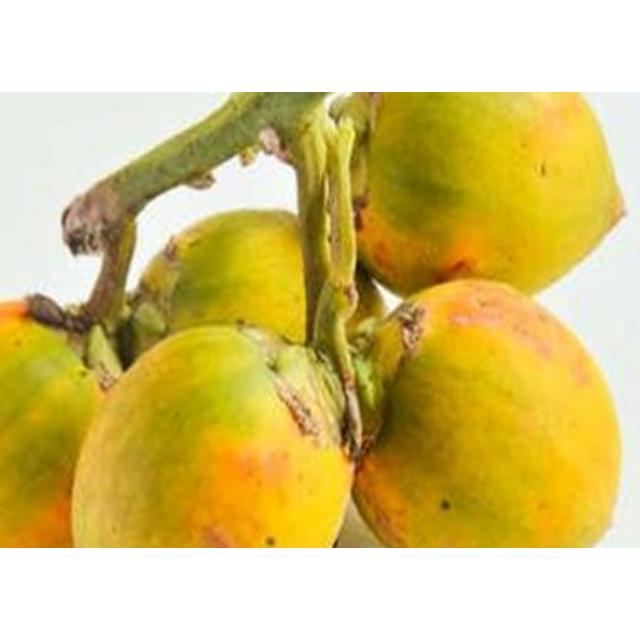good: (350, 280, 616, 542), (74, 323, 348, 547), (359, 92, 616, 294), (141, 208, 375, 352), (2, 309, 102, 543), (2, 295, 86, 393)
